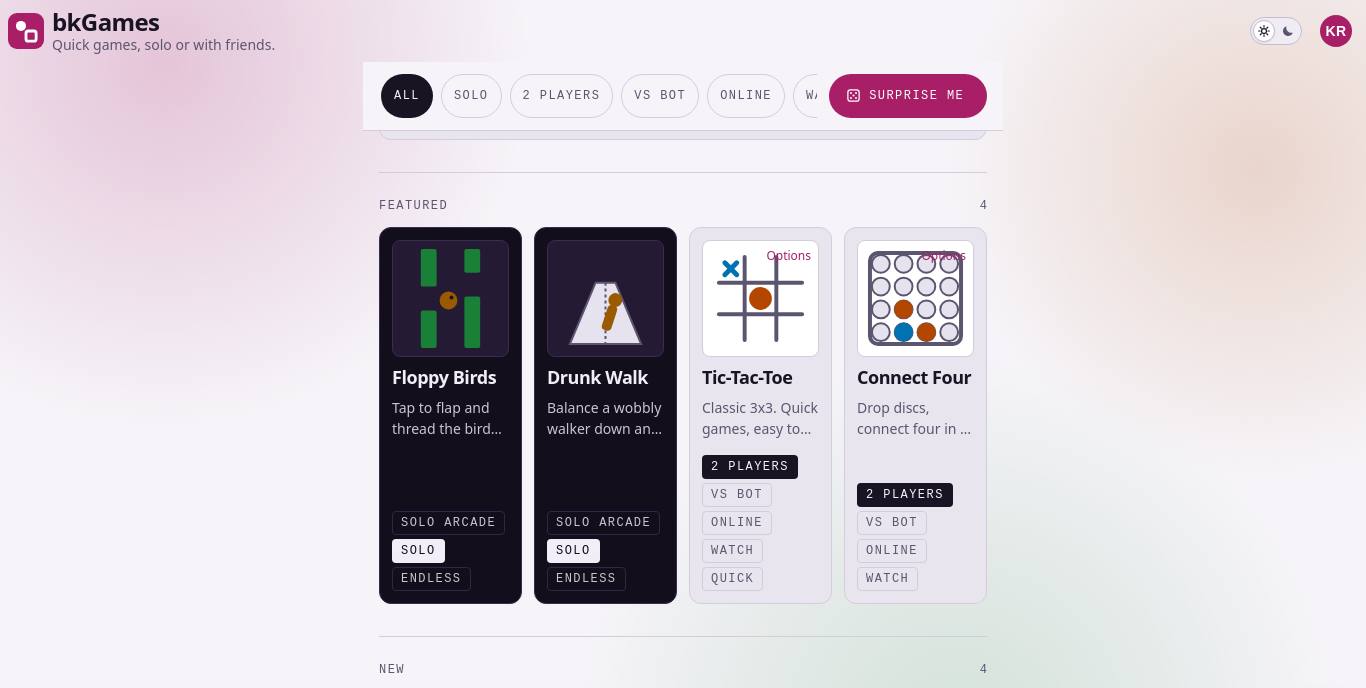
Test: App › MPG-040f: selecting a real-time game skips Setup and goes straight to the play surface
(page scrolled)
Click the button "Floppy Birds" at {"x": 450, "y": 415}, box [379, 227, 522, 604]
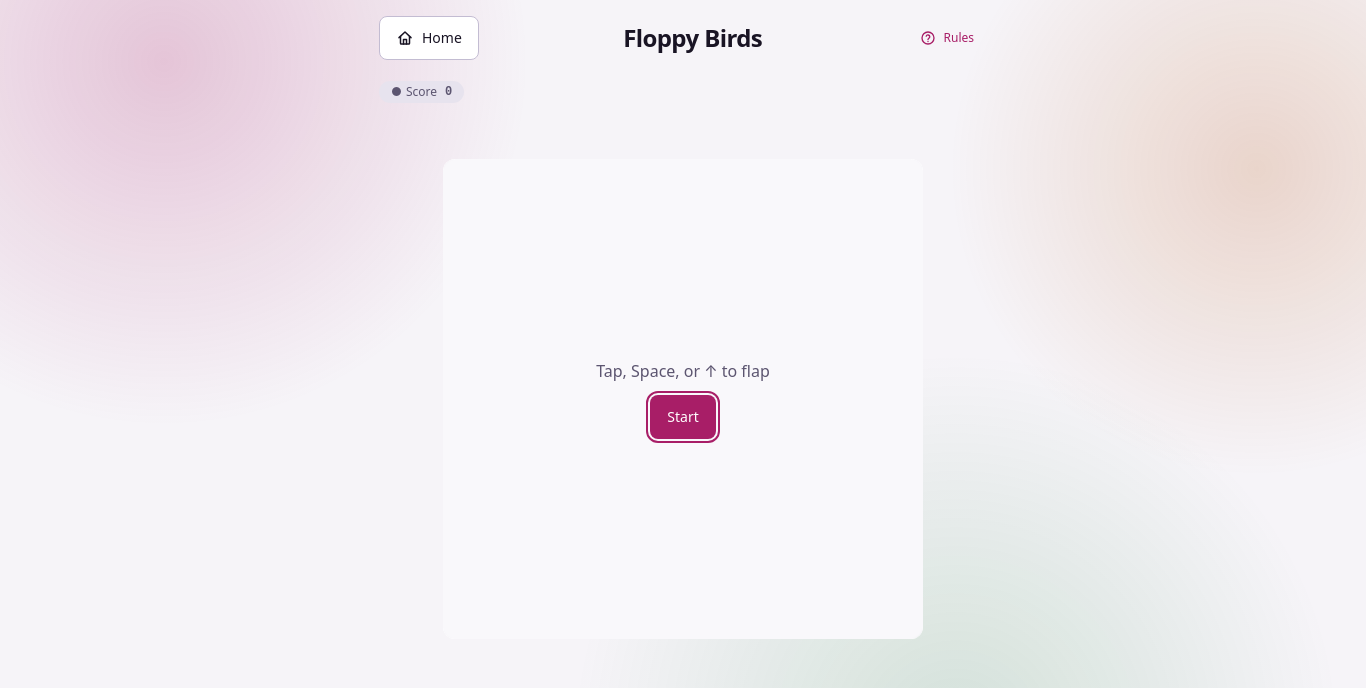
Expected: the element named "Floppy Birds play area" is shown, [443, 159, 923, 639]
Expected: the button "Start" is shown, [650, 395, 716, 439]
